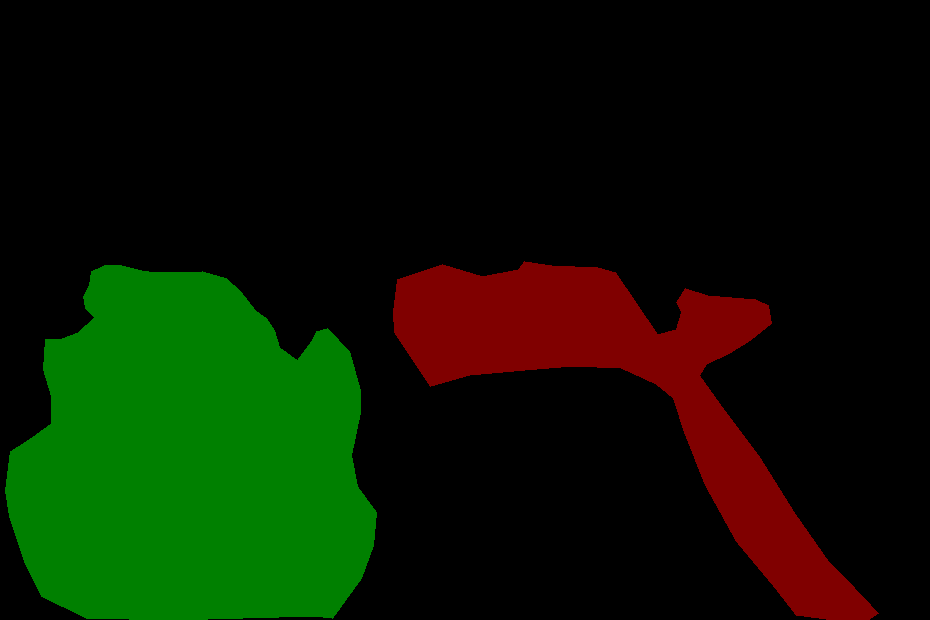fire: (393, 261, 878, 620), (5, 265, 376, 620)
